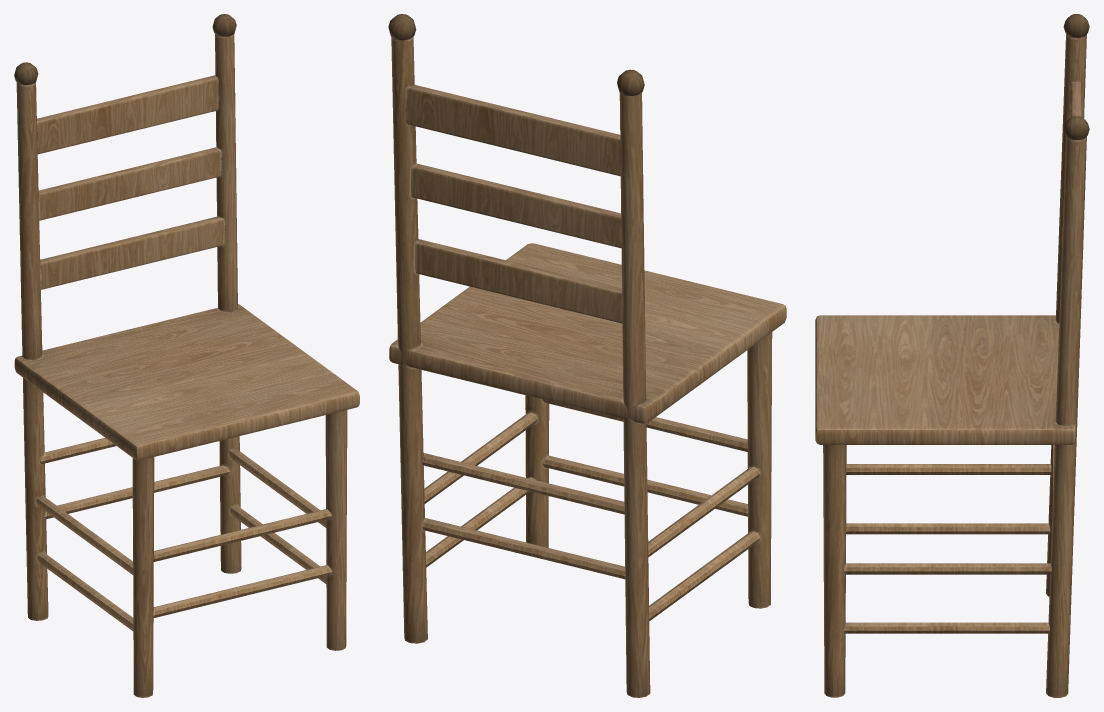
Rendered from desk_chair.glb.
The picture shows the model from 3 angles, left to right: view 1: azimuth 30°, elevation 25°; view 2: azimuth 150°, elevation 25°; view 3: azimuth 270°, elevation 25°; orthographic projection. The views are drawn at different scales.
Parts seen in each view (by area): view 1: desk_chair; view 2: desk_chair; view 3: desk_chair.
Boxes of the visible parts, x1,y1,x2,y2 form: desk_chair: (14, 14, 359, 697); desk_chair: (388, 14, 786, 697); desk_chair: (815, 14, 1089, 697).
Bounding box in the file's own units: 0.4199 × 0.9755 × 0.4199.
Materials: 1 (1 with a texture image).
